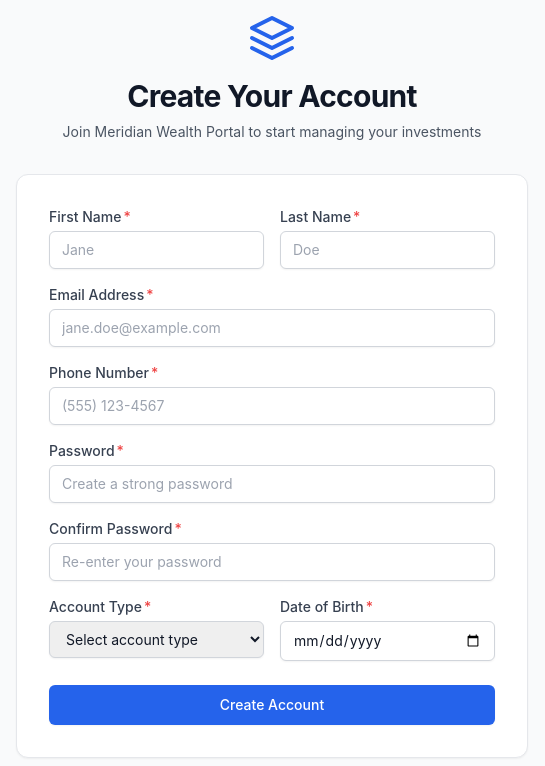
Test: SignupPage › password strength indicator › shows password strength indicator when password is entered
In the password field labelled "Password*": (272, 484) top-left (49, 465), bottom-right (495, 503), type "Meridian@2024"
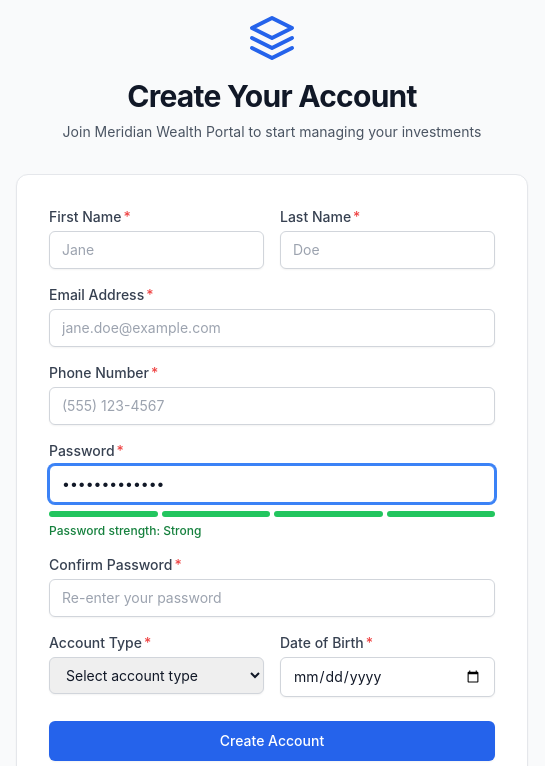
Check: the text "Password strength: Strong" is shown, box top-left (49, 523), bottom-right (201, 538)
